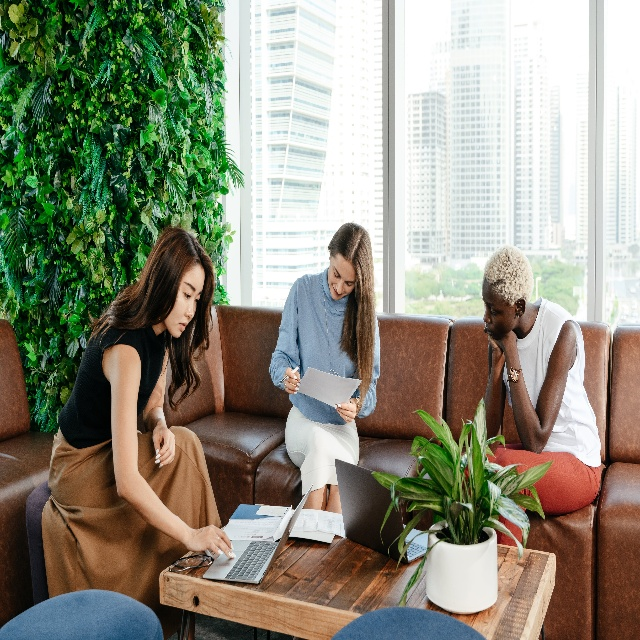Sin_guantes: (191, 524, 235, 559), (153, 421, 177, 470), (487, 329, 518, 355), (282, 366, 301, 395), (334, 402, 357, 423)
